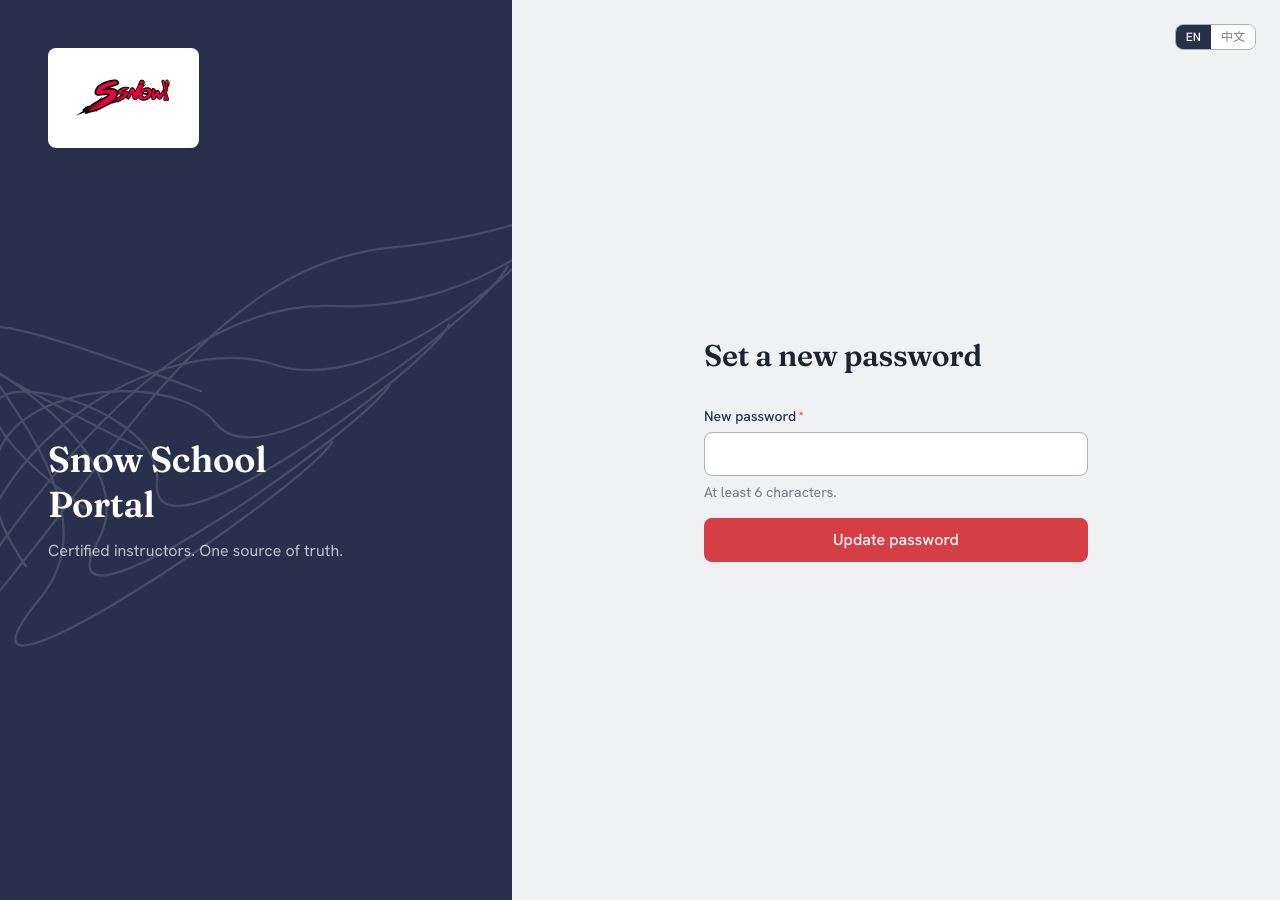
Test: UpdatePasswordPage › updates the password and confirms
Type "secret123" into the password field labelled "New password*" at (896, 454), box [704,432,1088,476]
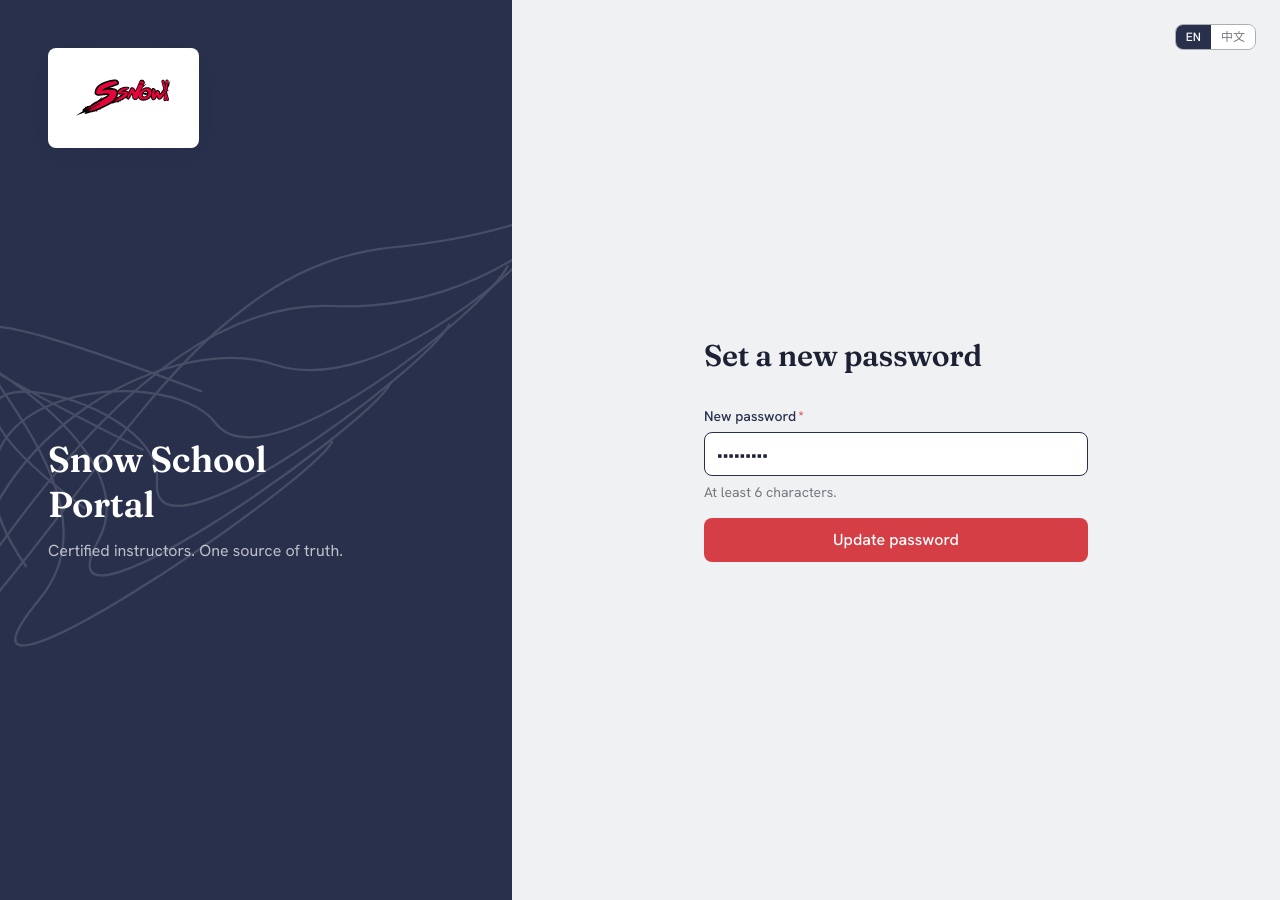
Click the button named "Update password" at (896, 540), box [704,518,1088,562]
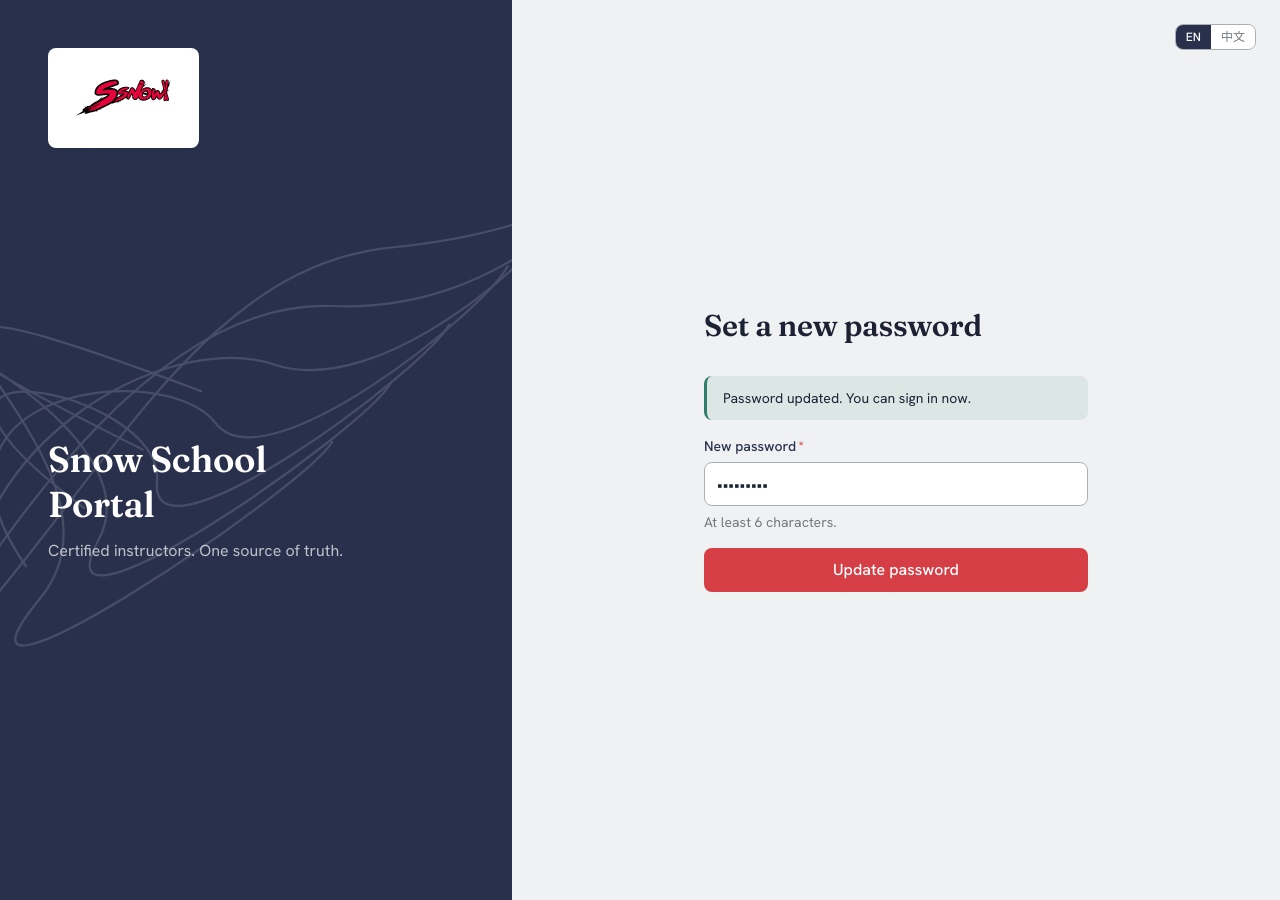
Expected: the text "Password updated. You can sign in now." is shown, [723,389,971,407]
